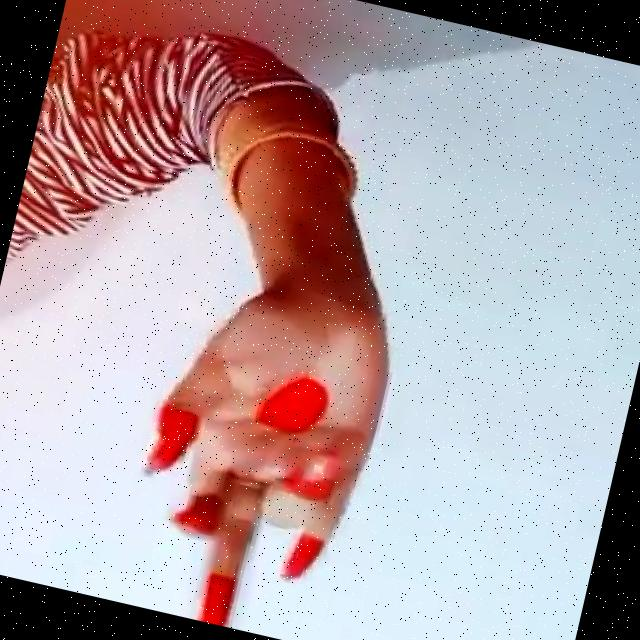Shukatunda: (91, 259, 408, 640)
bangle: (194, 107, 388, 255)
